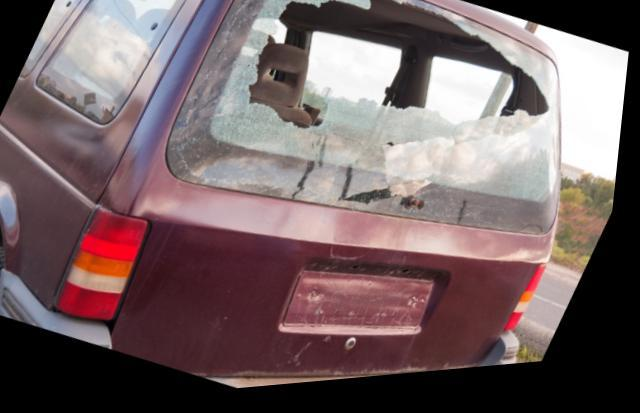glass shatter: (170, 0, 564, 245)
